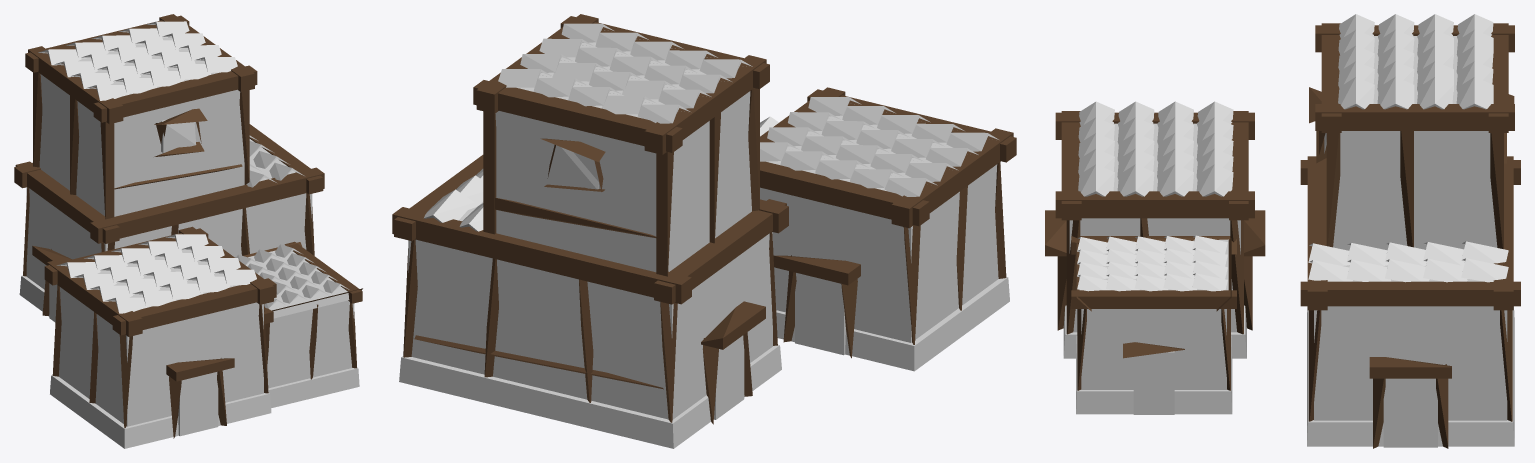
The model's file is rts_h6.glb.
3 views of the same model, side by side, from view 1: azimuth 30°, elevation 25°; view 2: azimuth 150°, elevation 25°; view 3: azimuth 270°, elevation 25° (orthographic). The views are drawn at different scales.
Visible parts, largest first — view 1: S_HousesSecondAge3Level3; view 2: S_HousesSecondAge3Level3; view 3: S_HousesSecondAge3Level3.
Boxes of the visible parts, bbox=[...] form: S_HousesSecondAge3Level3: bbox=[14, 14, 362, 448]; S_HousesSecondAge3Level3: bbox=[392, 14, 1016, 448]; S_HousesSecondAge3Level3: bbox=[1045, 14, 1520, 448].
Size of the model in its own units: 1.35 by 1.06 by 1.46.
